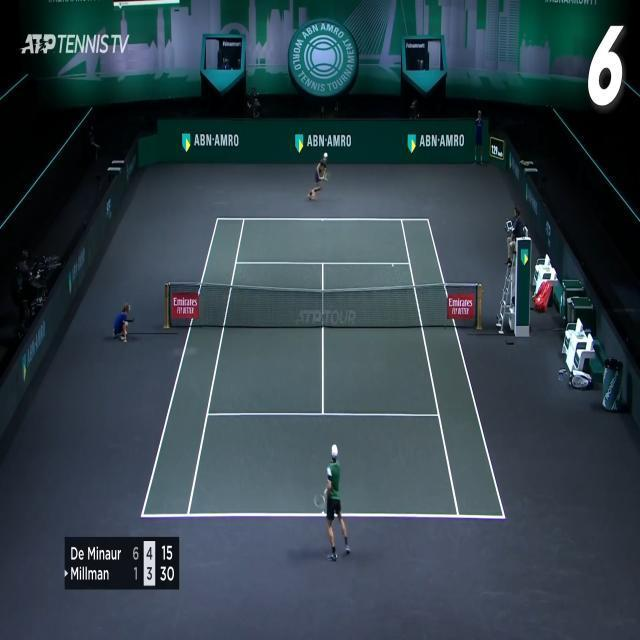court: (139, 217, 506, 520)
net: (164, 282, 483, 330)
player: (313, 442, 352, 562)
